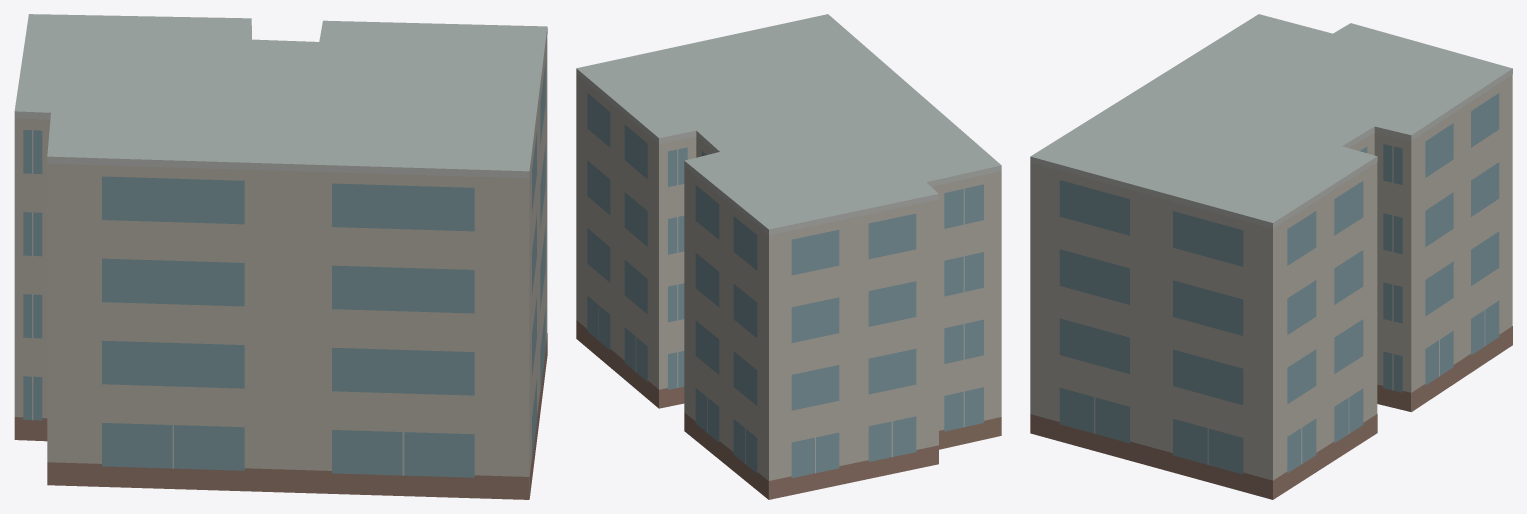
File: survey-upis-32588999.glb
3 views of the same model, side by side, from view 1: azimuth 30°, elevation 25°; view 2: azimuth 150°, elevation 25°; view 3: azimuth 270°, elevation 25° (orthographic). The views are drawn at different scales.
Visible parts, largest first — view 1: survey-upis-32588999.tmp; view 2: survey-upis-32588999.tmp; view 3: survey-upis-32588999.tmp.
Boxes of the visible parts, <box> form: survey-upis-32588999.tmp: <box>14,14,547,499</box>; survey-upis-32588999.tmp: <box>576,14,1001,499</box>; survey-upis-32588999.tmp: <box>1030,14,1512,499</box>.
Bounding box in the file's own units: 18.64 × 11.5 × 18.17.
